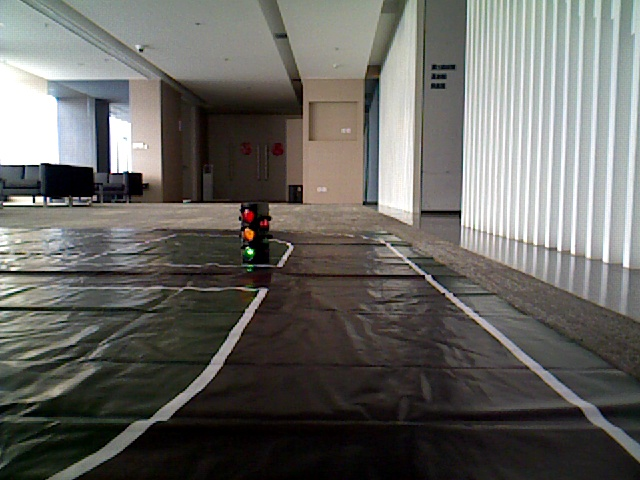green: (243, 205, 257, 258)
